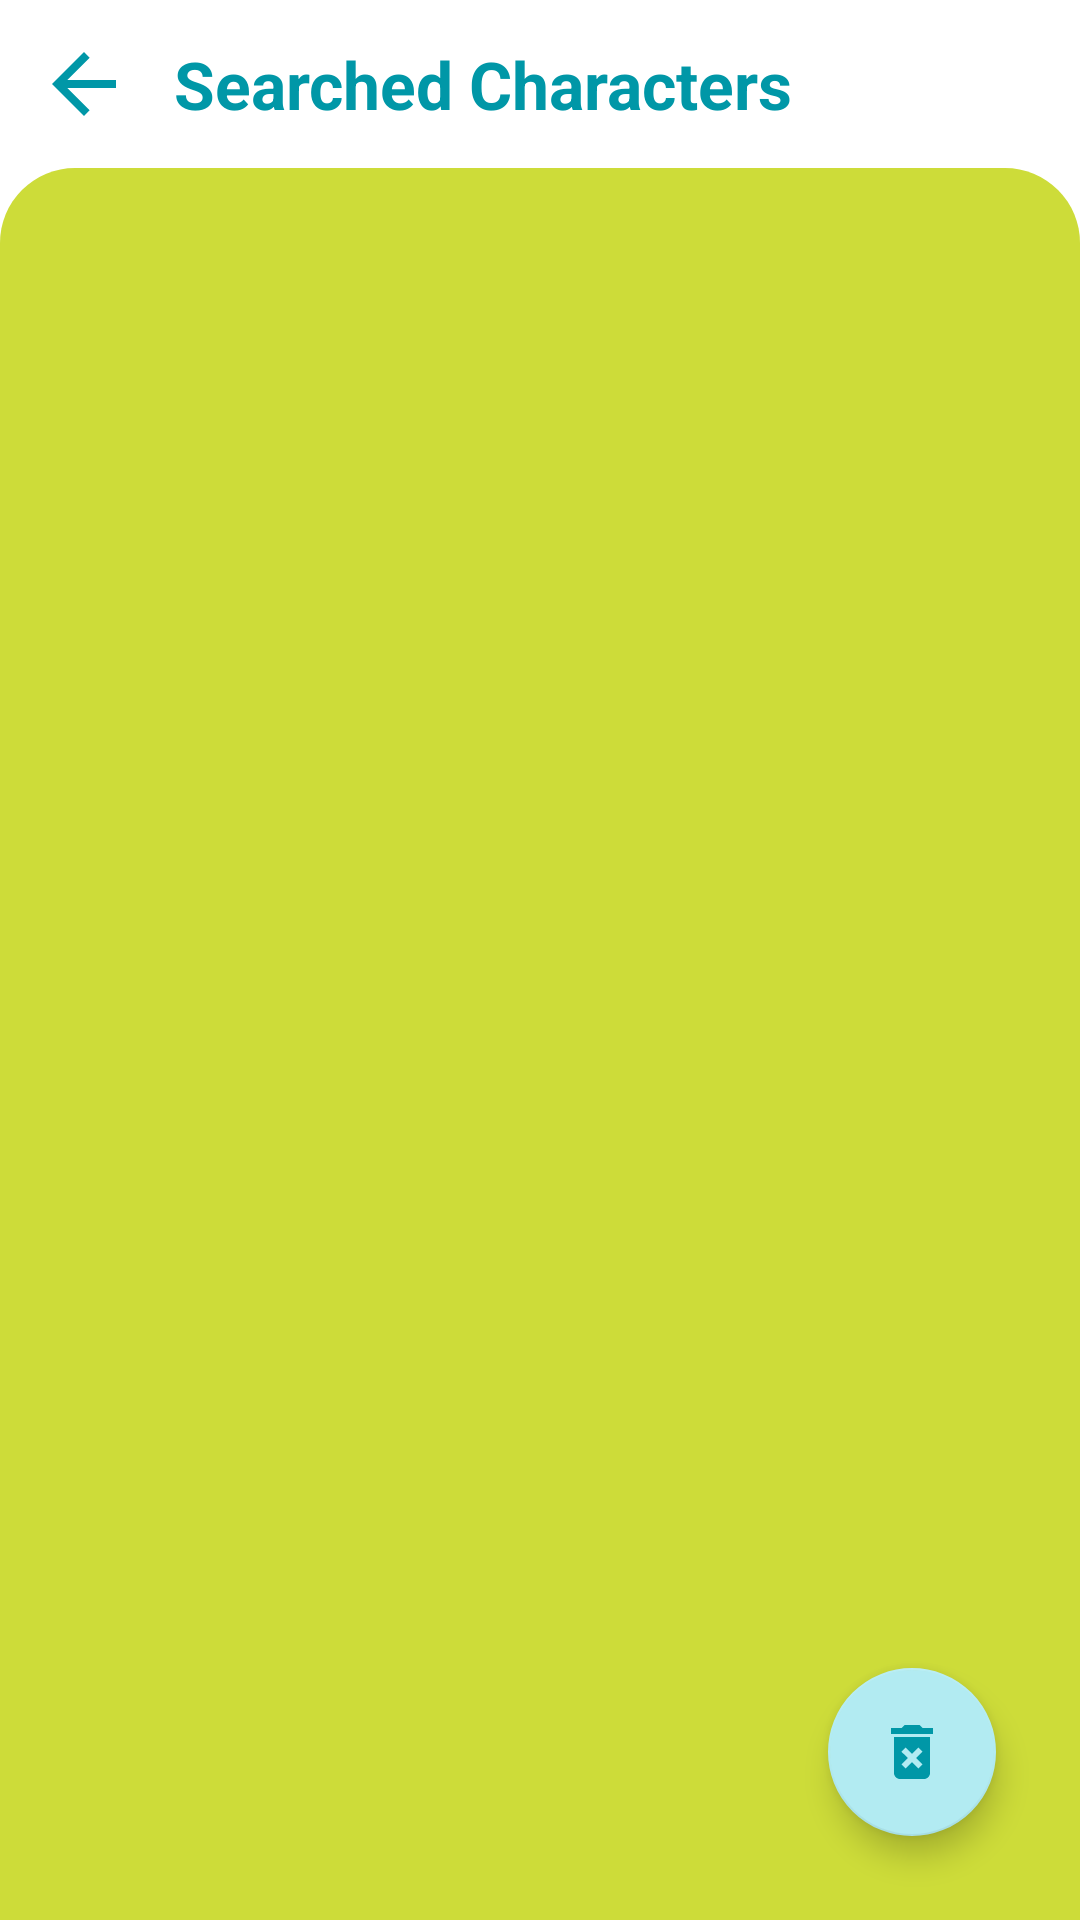

Where icons sit on this 1080 x 1920 app screen, as (x1, y1, x2, y2):
arrow back: (52, 52, 116, 116)
delete: (828, 1668, 996, 1836)
